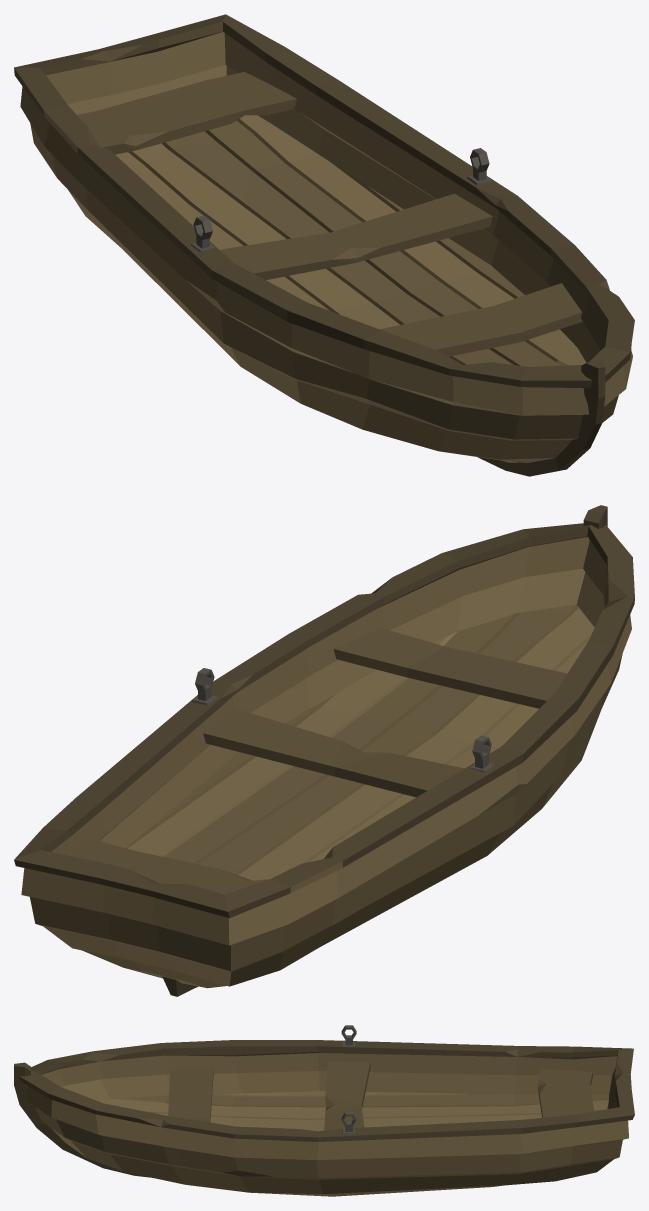
File: BoatSmall_1.fbx
3 renders of one model, top to bottom at view 1: azimuth 30°, elevation 25°; view 2: azimuth 150°, elevation 25°; view 3: azimuth 270°, elevation 25°, orthographic. The views are drawn at different scales.
Parts seen in each view (by area): view 1: BoatSmall_1; view 2: BoatSmall_1; view 3: BoatSmall_1.
Boxes of the visible parts, x1,y1,x2,y2 form: BoatSmall_1: (14, 14, 634, 476); BoatSmall_1: (14, 505, 634, 996); BoatSmall_1: (14, 1025, 634, 1196).
Bounding box in the file's own units: 148 × 89.99 × 402.
